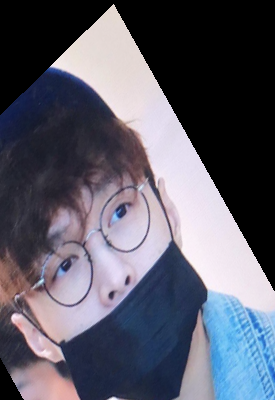mask_weared_incorrect: (1, 51, 216, 400)
